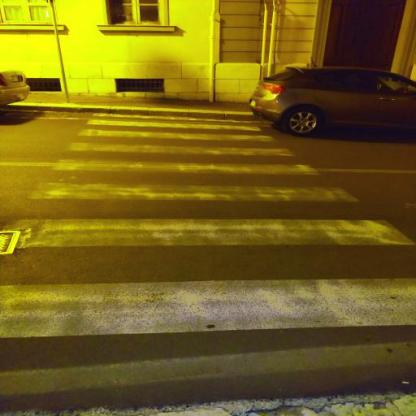crosswalk: (21, 156, 372, 209)
